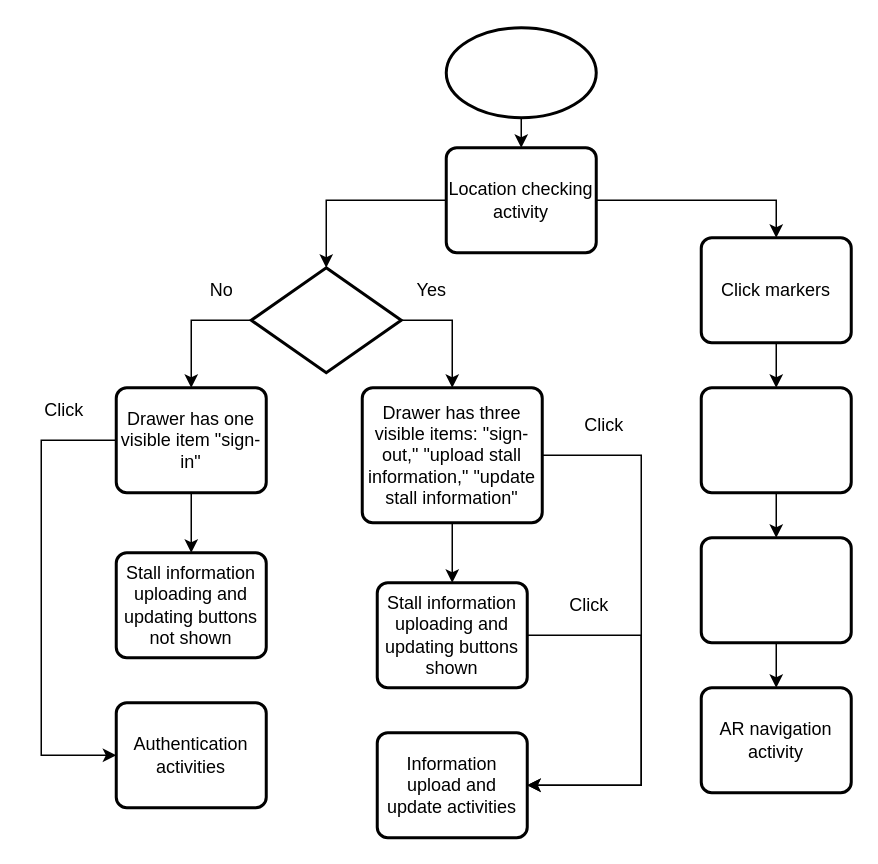
The diagram is 878 pixels wide and 864 high, and some of its shapes have lost their labels. Each missing label, with the centre of its shape:
"Click button" belongs at [775,590].
"Logged in" belongs at [325,320].
"Marker information layout" belongs at [775,440].
"Start" belongs at [520,72].
